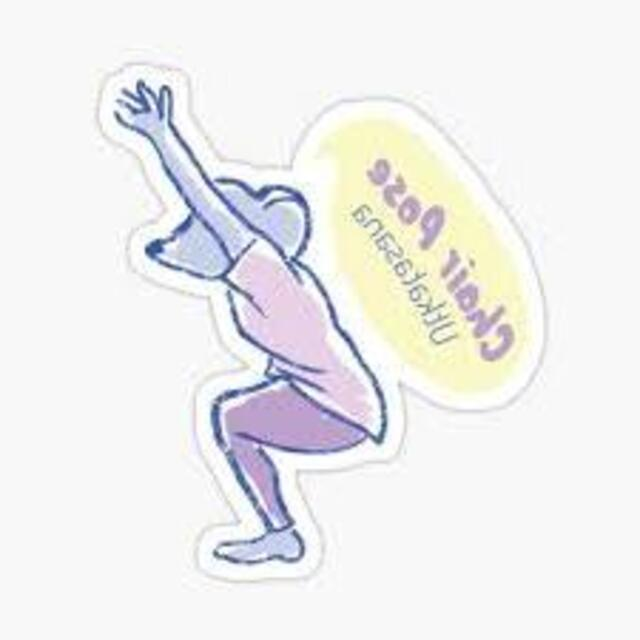Squat_Pose: (111, 73, 388, 570)
